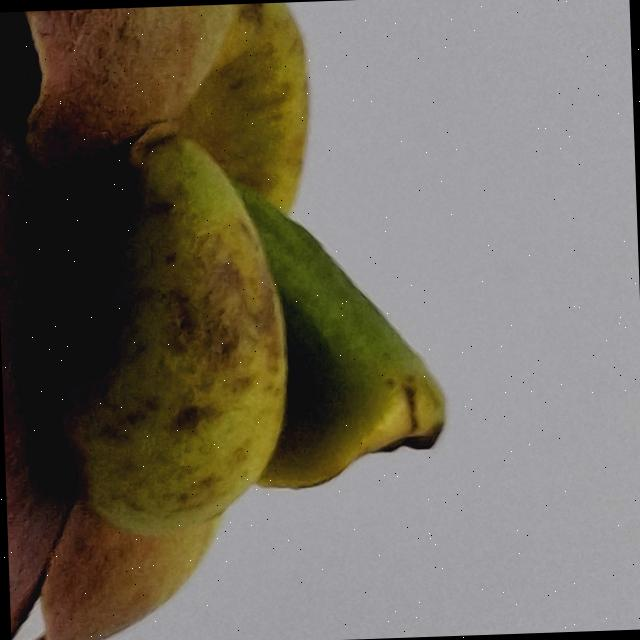mangosteen: (0, 0, 531, 640)
